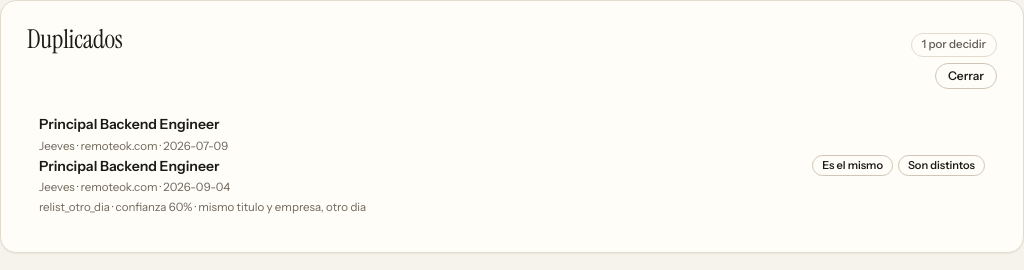
Test: Duplicados (Fase 11 — no dead UI) › «Es el mismo» manda ACCEPTED al backend de verdad
Click the button "Es el mismo".
click(853, 166)  # box [812,155,893,176]
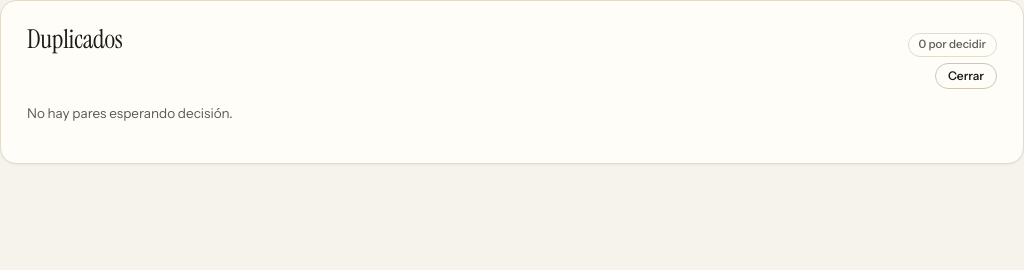
Result: the text "No hay pares esperando decisión." is shown at [27,105,233,121]
